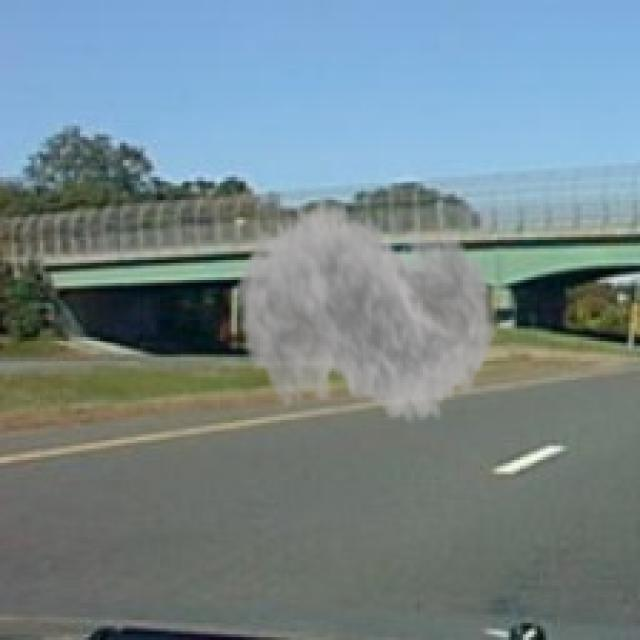smoke: (234, 180, 497, 451)
